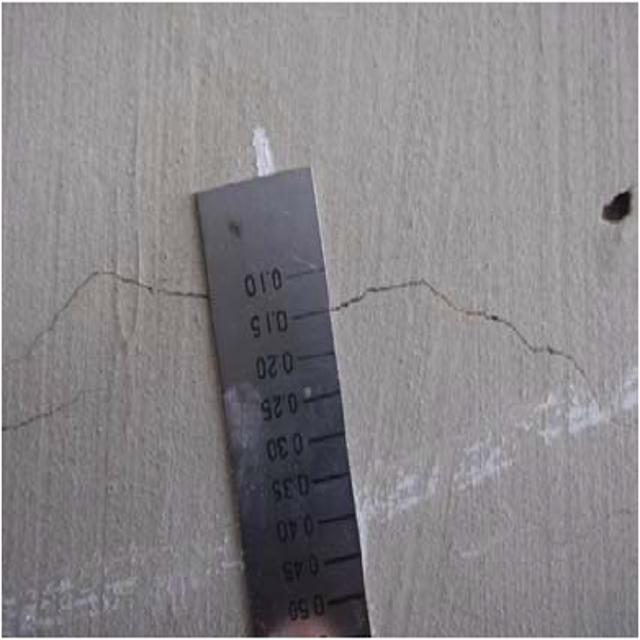crack: (329, 256, 617, 437), (6, 261, 213, 370)
